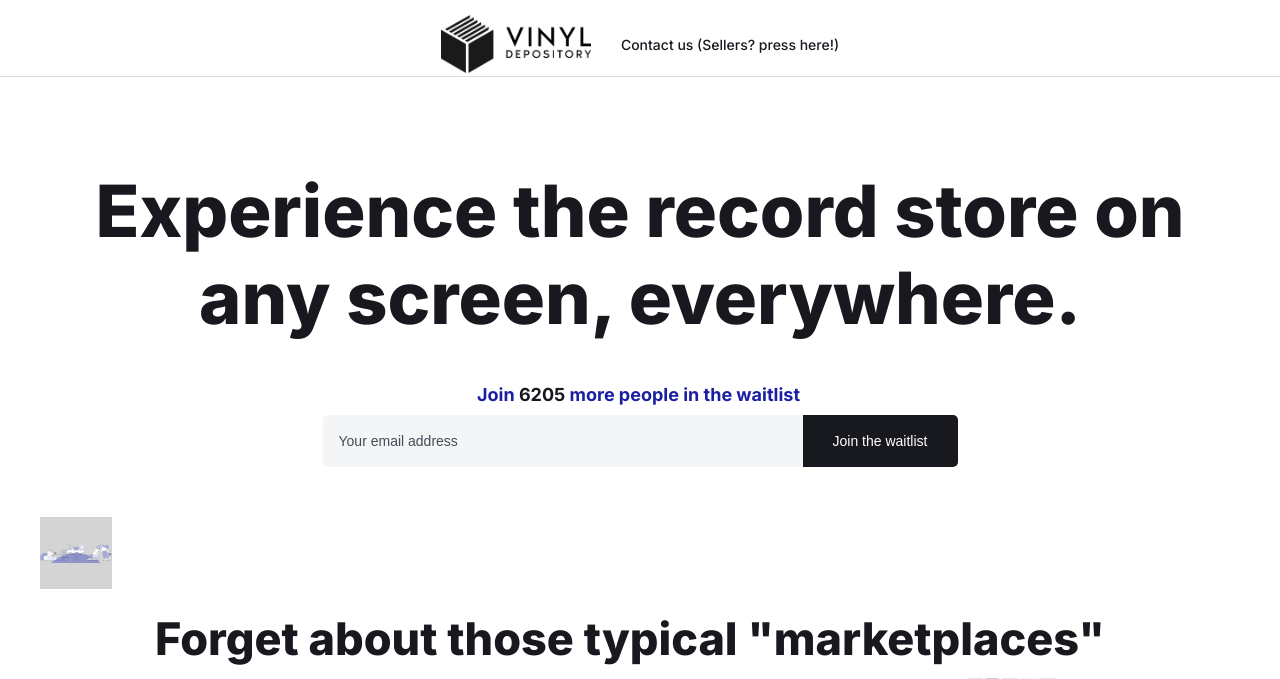
Test case: Behavior tests › (Intro Section): Should display failure validation message when submitting invalid email input - and email is non empty
Step 1. Type "DUMMY_EMAIL" into the field with test id "intro-input" → (563, 441), box 323,415 -> 803,467
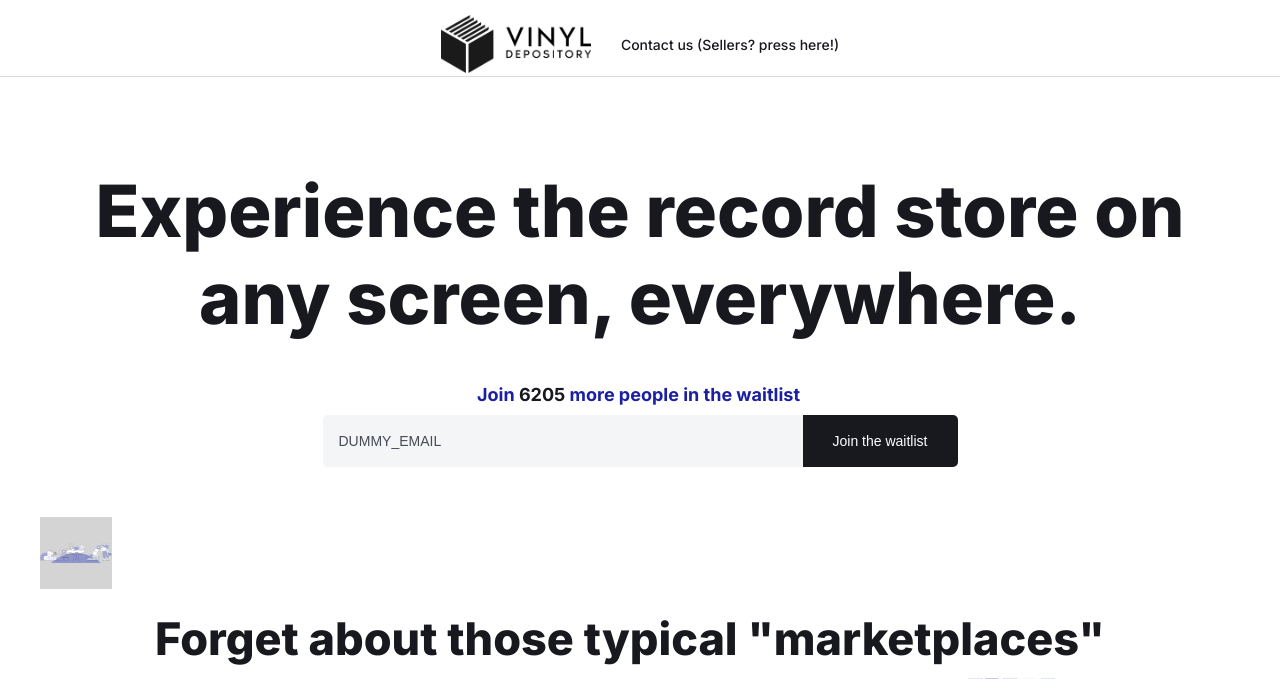
Step 2. Submit the form with test id "intro-form", box 323,415 -> 958,467
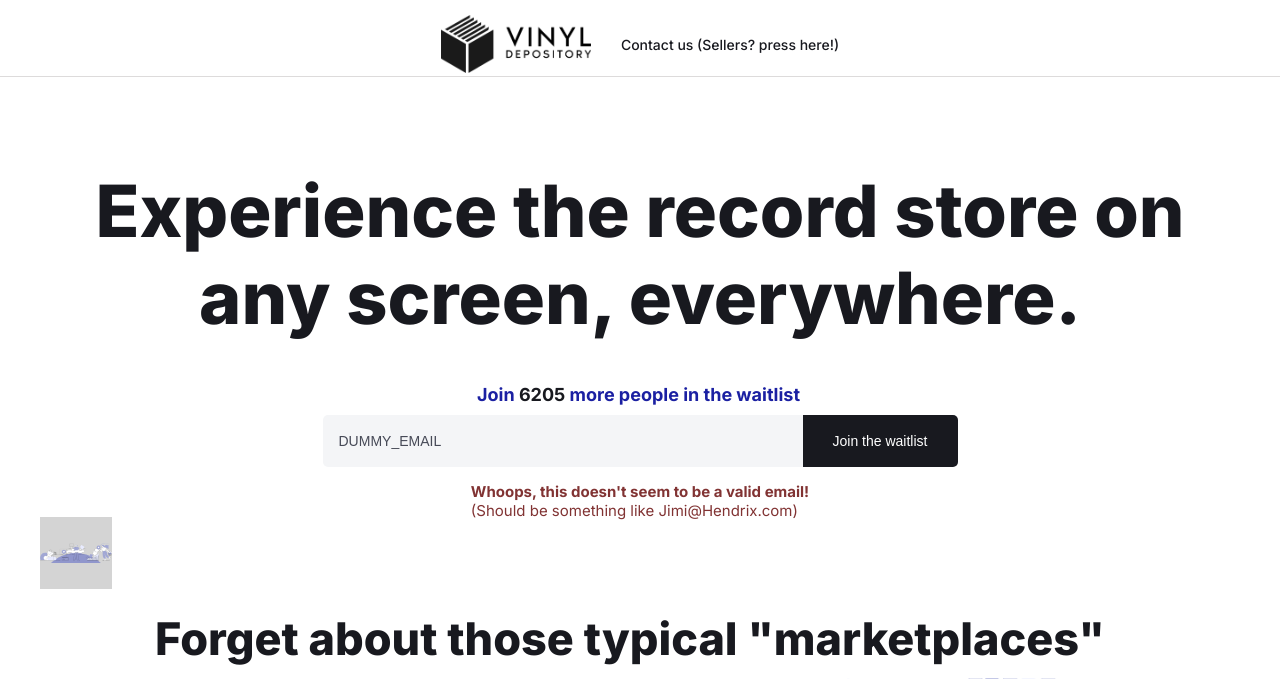
Expected: the element with test id "intro-validation-message" is shown, 471,482 -> 809,520
